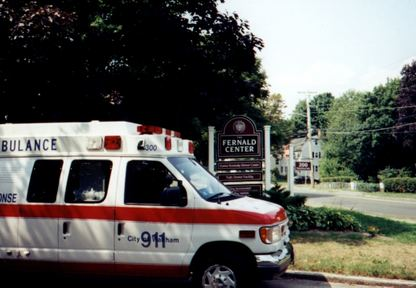ambulance: (0, 118, 296, 288)
